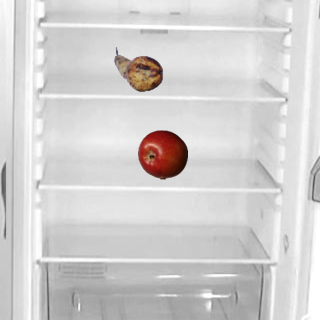Apple Braeburn: (137, 129, 187, 179)
Pear Abate: (113, 44, 163, 94)
